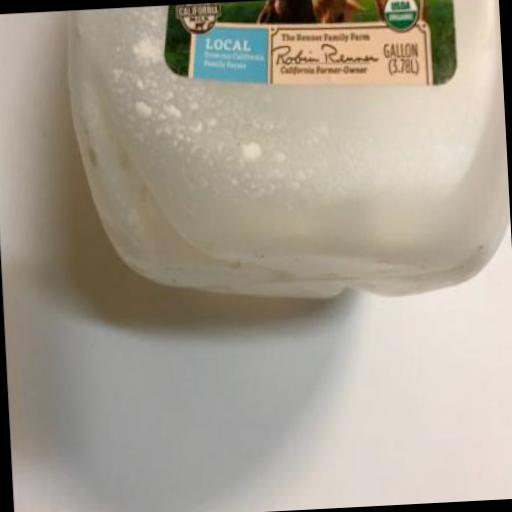plastic: (65, 0, 512, 313)
